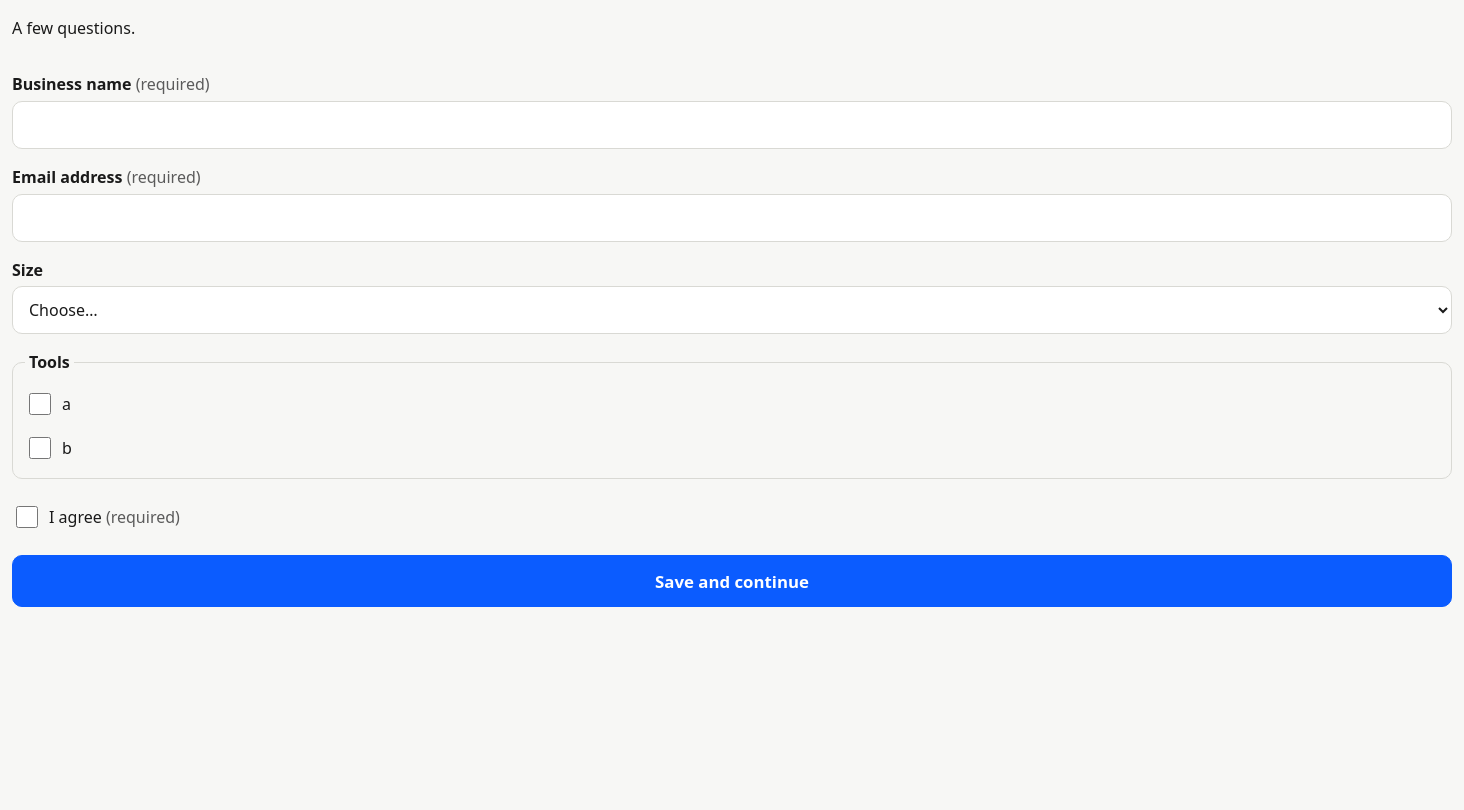
it: FormStep › required fields are marked in words and block sending, with an error beside each
Expected: the text "(required)" is shown 3 times, [132, 73, 210, 95]; [122, 166, 201, 188]; [102, 506, 180, 528]
Click the button "Save and continue". click: (732, 581)
box: [12, 555, 1452, 607]
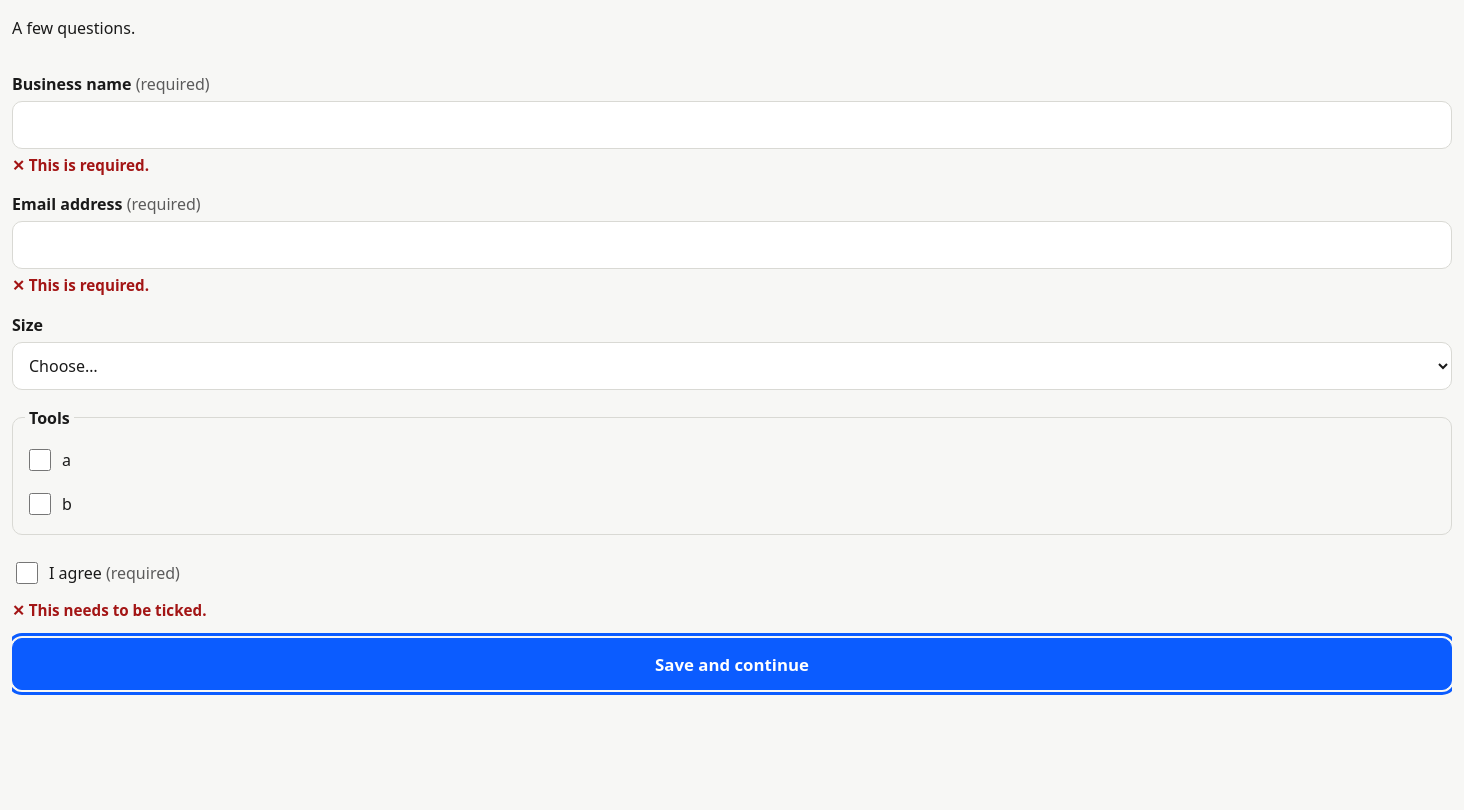
Expected: the messages read "✕ This is required.", "✕ This is required.", "✕ This needs to be ticked.", in this order, [12, 155, 149, 175]; [12, 275, 149, 295]; [12, 600, 206, 620]
